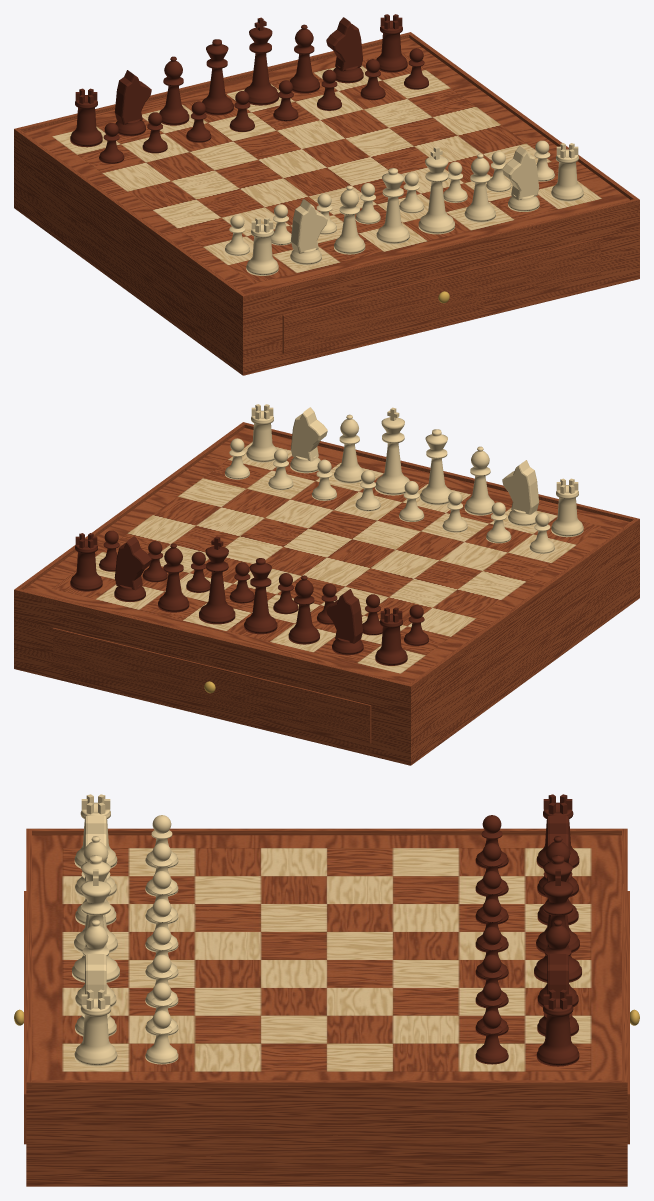
File: philidor-3d-erable-magnetique-41-v2.glb
3 views of the same model, one above another, from view 1: azimuth 30°, elevation 25°; view 2: azimuth 150°, elevation 25°; view 3: azimuth 270°, elevation 25° (orthographic). The views are drawn at different scales.
Visible parts, largest first — view 1: erable-magnetique-41; view 2: erable-magnetique-41; view 3: erable-magnetique-41.
Part boxes in pixels (box(x1,y1,x2,y2)): erable-magnetique-41: box(14, 14, 639, 375); erable-magnetique-41: box(14, 404, 639, 765); erable-magnetique-41: box(14, 794, 639, 1186).
Size of what is drawn, in the model's own units: 0.41 by 0.153 by 0.4267.
6 materials, 3 textured.
